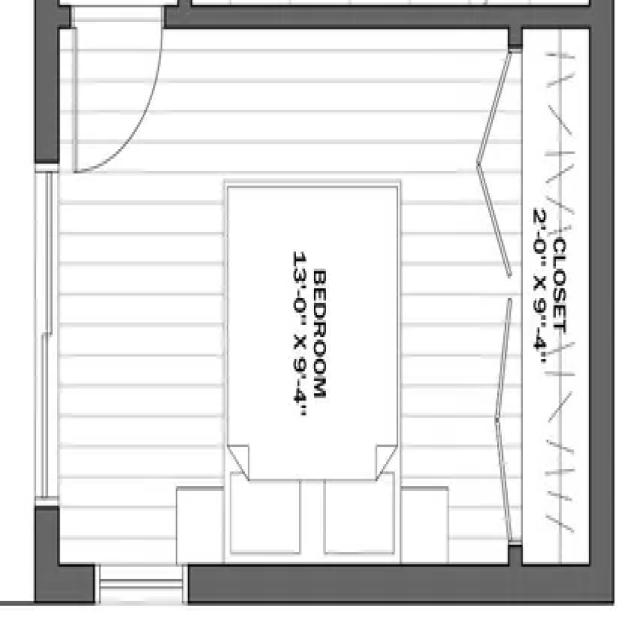Doors: (68, 5, 167, 179)
